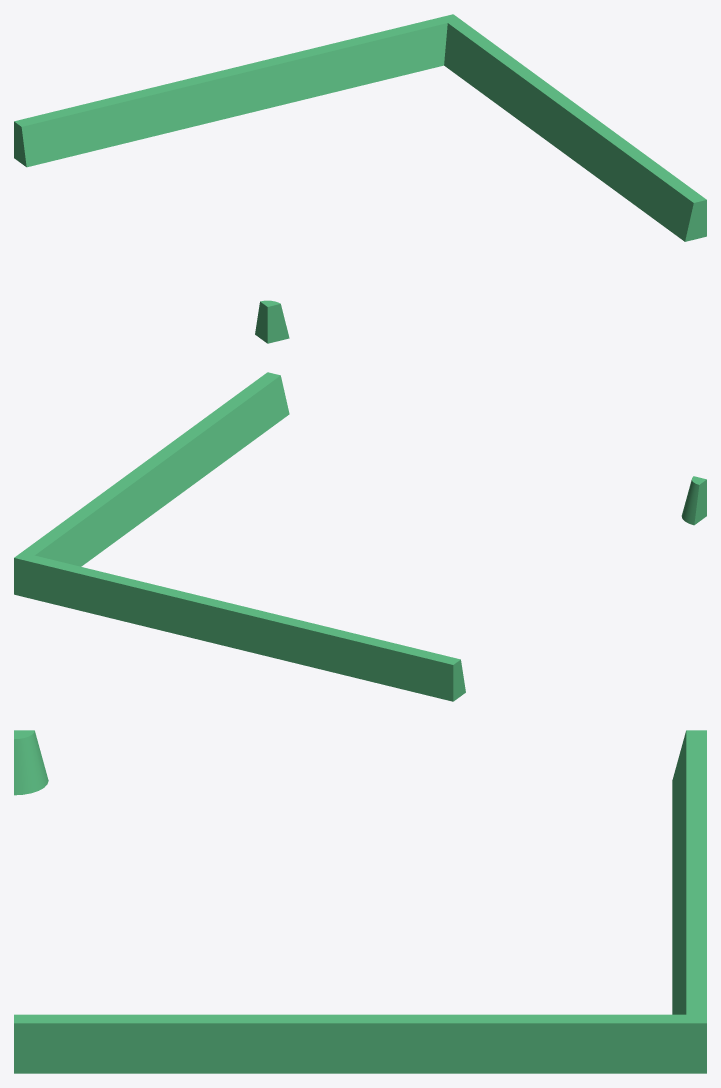
Rendered from road_bend_square_barrier.glb.
The picture shows the model from 3 angles, top to bottom: view 1: azimuth 30°, elevation 25°; view 2: azimuth 150°, elevation 25°; view 3: azimuth 270°, elevation 25°; orthographic projection. The views are drawn at different scales.
Visible parts, largest first — view 1: road-bend-square-barrier; view 2: road-bend-square-barrier; view 3: road-bend-square-barrier.
Boxes of the visible parts, <box> form: road-bend-square-barrier: <box>14,14,706,343</box>; road-bend-square-barrier: <box>14,372,706,701</box>; road-bend-square-barrier: <box>14,730,706,1073</box>.
Bounding box in the file's own units: 1 × 0.08 × 1.
Materials: 1 (1 with a texture image).
